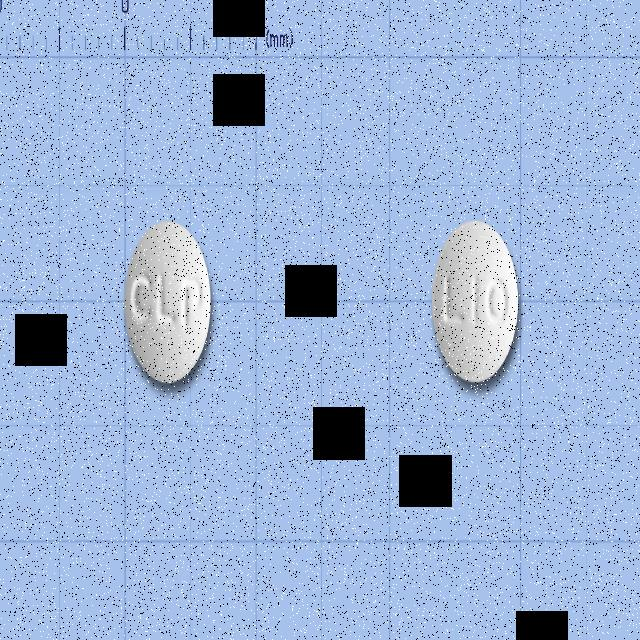Luarva - 20mg: (124, 217, 214, 385), (432, 221, 520, 386)
